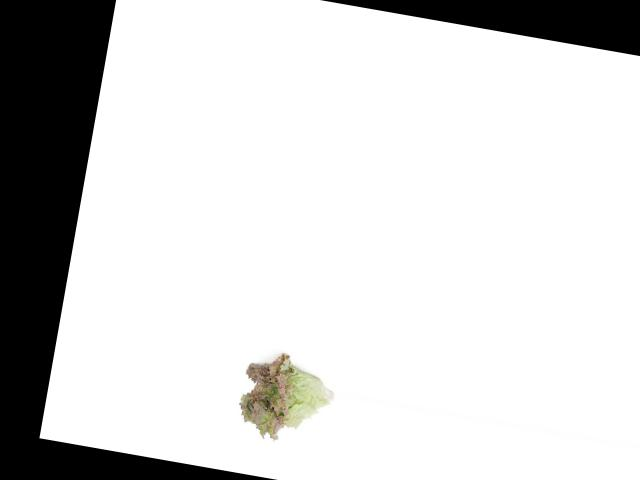lettuce: (222, 337, 343, 453)
